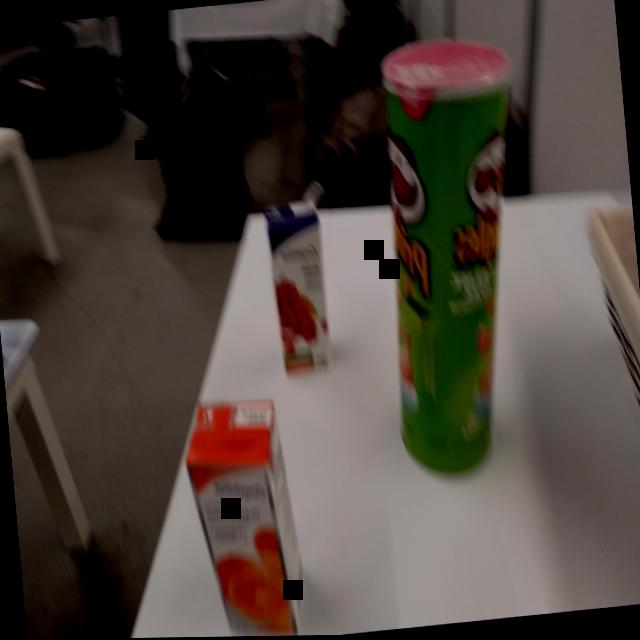grape_juice: (259, 192, 339, 376)
orange_juice: (177, 382, 315, 638)
pringles: (362, 24, 551, 491)
